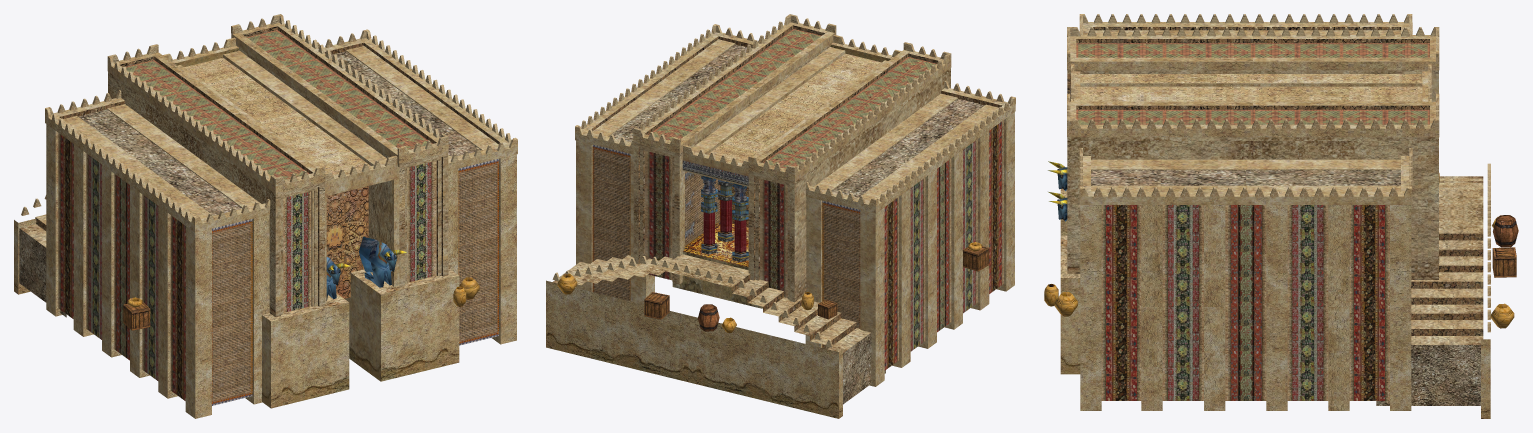
Rendered from pers_apadana.glb.
3 views of the same model, side by side, from view 1: azimuth 30°, elevation 25°; view 2: azimuth 150°, elevation 25°; view 3: azimuth 270°, elevation 25° (orthographic). The views are drawn at different scales.
Bounding box in the file's own units: 29.03 × 19.17 × 31.66.
Materials: 1 (1 with a texture image).
